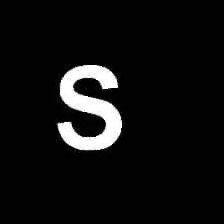LTR_S: (51, 56, 125, 155)
